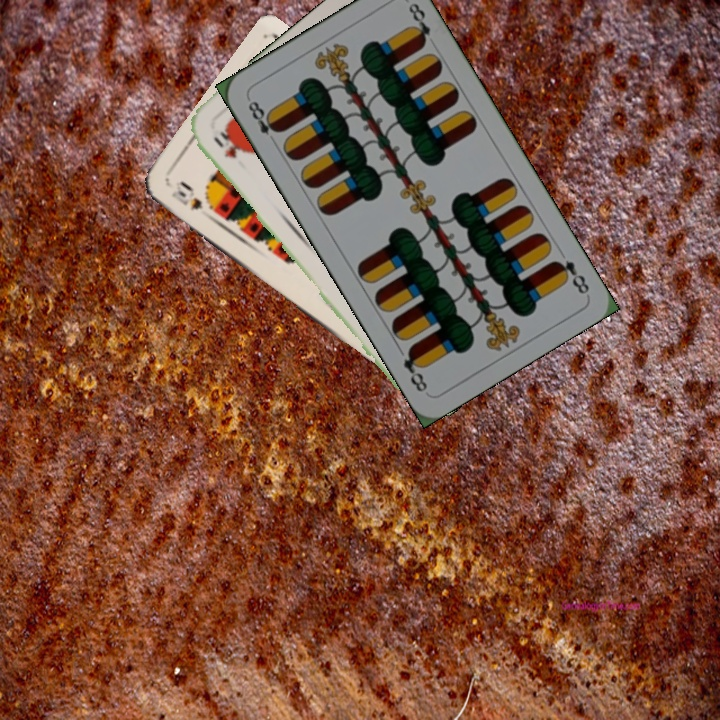E8: (244, 94, 283, 148), (549, 256, 592, 297)
HO: (209, 127, 241, 162)
S10: (167, 186, 206, 214)
